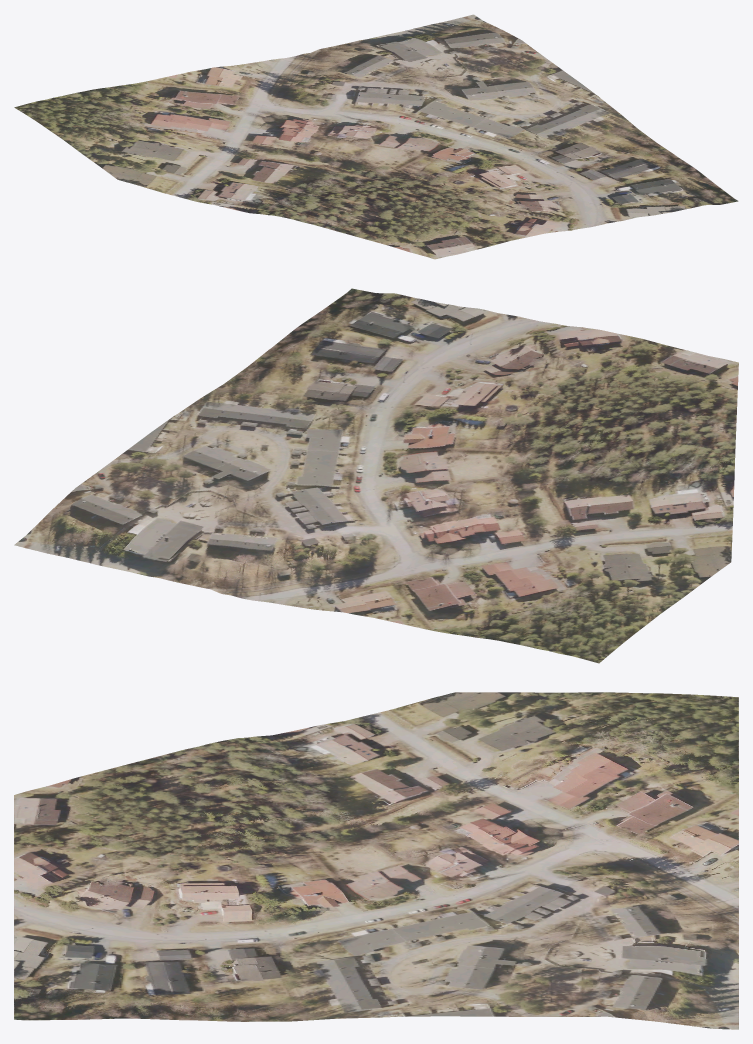
Rendered from CM_Terrain_24490254_6817132.fbx.
3 renders of one model, top to bottom at view 1: azimuth 30°, elevation 25°; view 2: azimuth 150°, elevation 25°; view 3: azimuth 270°, elevation 25°, orthographic. The views are drawn at different scales.
Parts seen in each view (by area): view 1: CM_Terrain_24490254_6817132_LOD0; view 2: CM_Terrain_24490254_6817132_LOD0; view 3: CM_Terrain_24490254_6817132_LOD0.
Boxes of the visible parts, bbox=[...] form: CM_Terrain_24490254_6817132_LOD0: bbox=[14, 14, 738, 259]; CM_Terrain_24490254_6817132_LOD0: bbox=[14, 288, 738, 663]; CM_Terrain_24490254_6817132_LOD0: bbox=[14, 692, 738, 1029].
Size of what is drawn, in the model's own units: 205 by 11.81 by 205.
